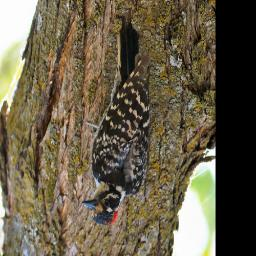Woodpecker: (82, 12, 145, 229)
